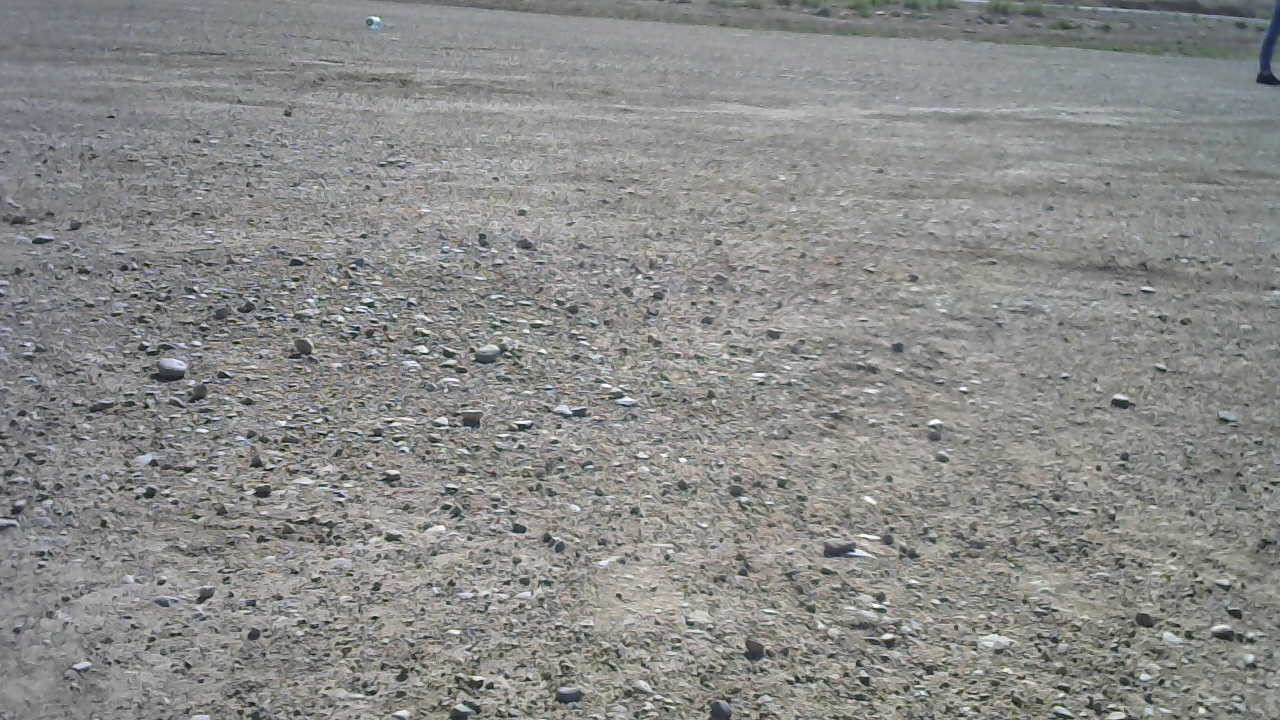bottle: (360, 15, 384, 28)
